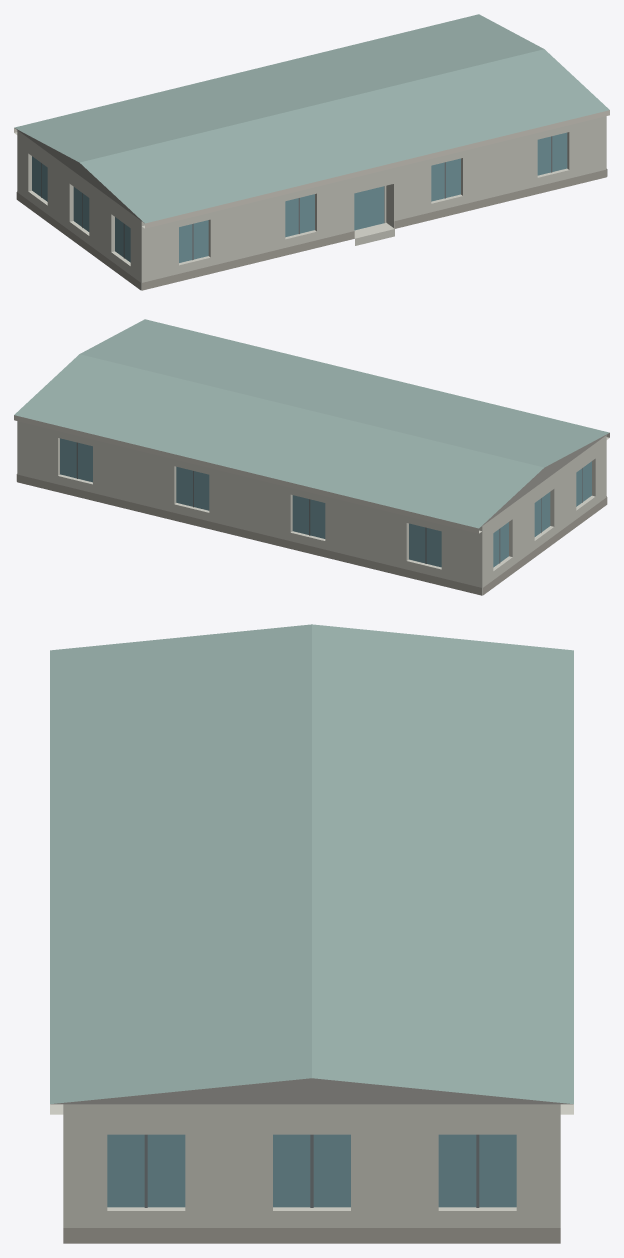
3 views of the same model, one above another, from view 1: azimuth 30°, elevation 25°; view 2: azimuth 150°, elevation 25°; view 3: azimuth 270°, elevation 25° (orthographic). The views are drawn at different scales.
Visible parts, largest first — view 1: aux778946321__roofAccent, aux778946321__wall, aux778946321__glass, aux778946321__base, aux778946321__trim, aux778946321__wall2, aux778946321__entranceThreshold_0, aux778946321__frame; view 2: aux778946321__roofAccent, aux778946321__wall, aux778946321__glass, aux778946321__base, aux778946321__trim, aux778946321__wall2, aux778946321__frame; view 3: aux778946321__roofAccent, aux778946321__wall, aux778946321__glass, aux778946321__base, aux778946321__wall2, aux778946321__frame.
Boxes of the visible parts, x1,y1,x2,y2 form: aux778946321__roofAccent: (14,14,609,223); aux778946321__wall: (17,116,606,290); aux778946321__glass: (32,132,567,262); aux778946321__base: (16,169,607,290); aux778946321__trim: (14,110,609,228); aux778946321__wall2: (15,128,143,222); aux778946321__entranceThreshold_0: (354,222,394,245); aux778946321__frame: (41,136,552,260); aux778946321__roofAccent: (14,319,609,528); aux778946321__wall: (17,421,606,595); aux778946321__glass: (60,438,591,567); aux778946321__base: (16,474,607,595); aux778946321__trim: (14,415,609,533); aux778946321__wall2: (480,433,608,527); aux778946321__frame: (76,442,582,563); aux778946321__roofAccent: (50,624,573,1104); aux778946321__wall: (63,1104,560,1227); aux778946321__glass: (107,1134,516,1207); aux778946321__base: (63,1228,560,1243); aux778946321__wall2: (51,1078,572,1104); aux778946321__frame: (144,1134,479,1207).
Size of the model in its own units: 28.15 by 5.15 by 13.7.
